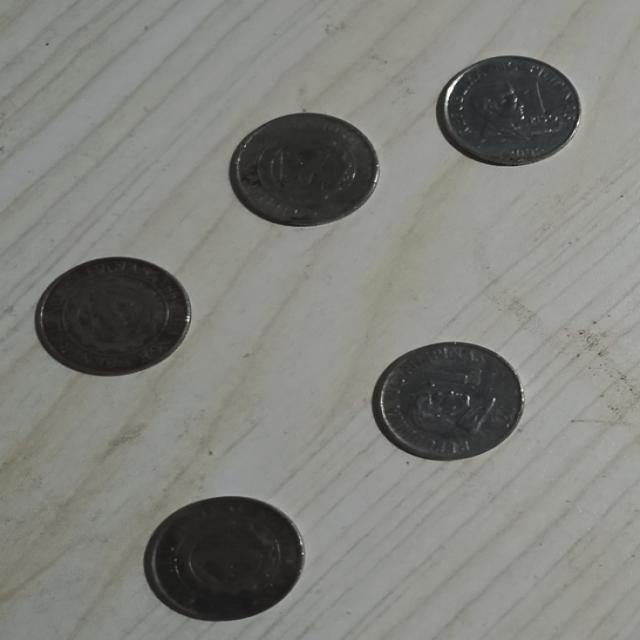1_peso: (145, 497, 304, 620), (36, 257, 190, 375), (374, 342, 523, 460), (230, 114, 377, 225), (441, 57, 579, 165)
